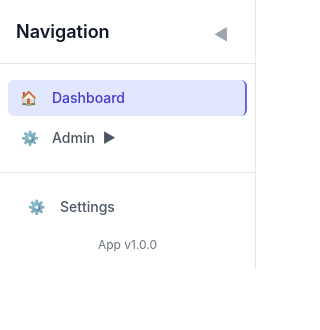
Test: Sidebar › should expand/collapse nested navigation items
This screenshot has width=320, height=330.
Expected: the text "General" is not shown
// Click to expand
Click the button "⚙️ Admin ▶": {"x": 68, "y": 138} [8,120,128,156]
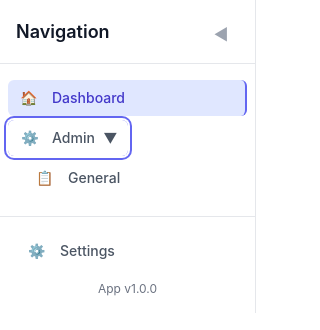
Expected: the text "General" is shown, [68,168,120,188]
